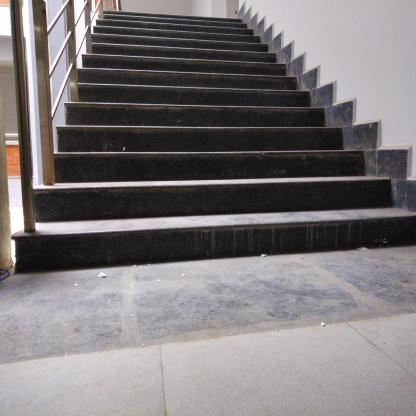stairs: (98, 22, 236, 270)
